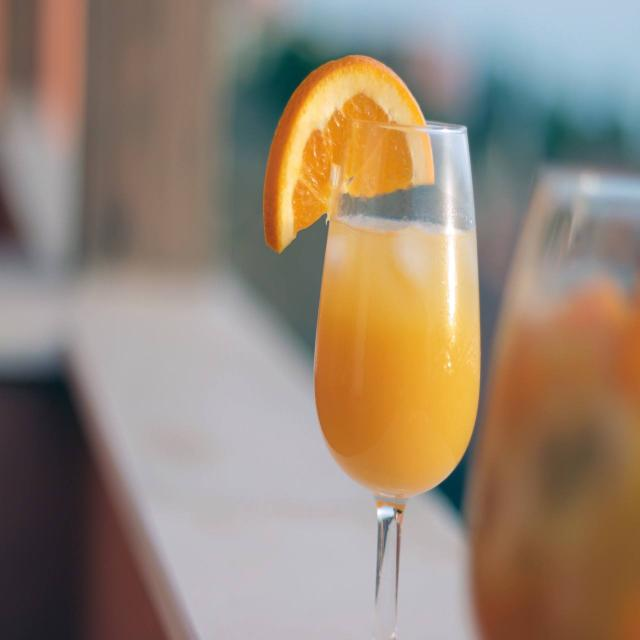orange: (262, 49, 446, 256)
